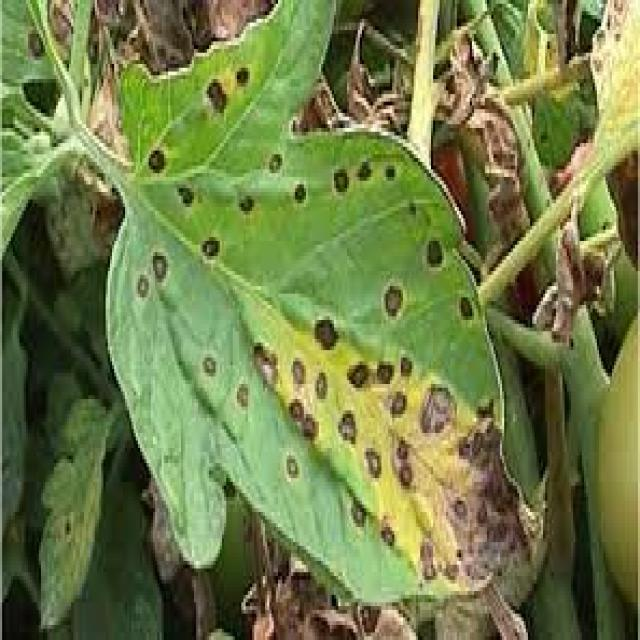black-spot: (237, 339, 420, 611)
